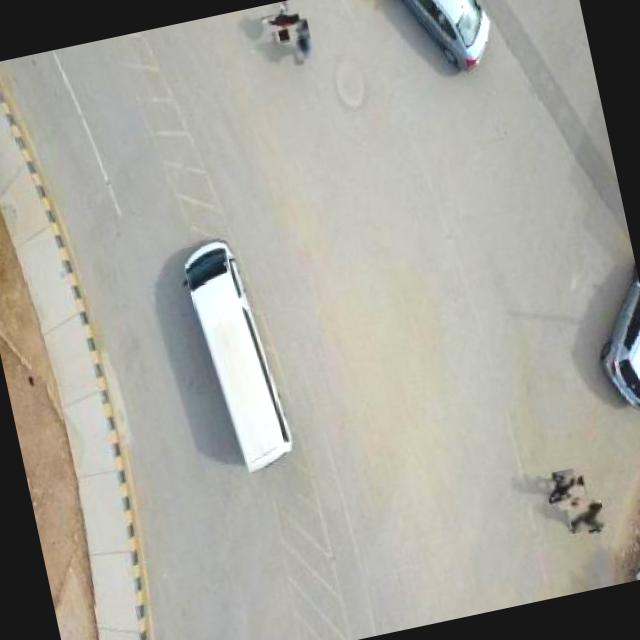Person: (546, 471, 584, 508), (566, 498, 604, 535), (290, 16, 316, 65), (264, 4, 298, 38)
